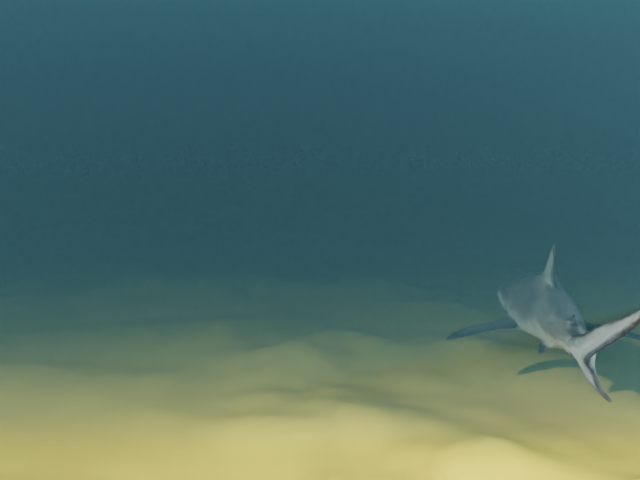Carribean Shark.001: (445, 243, 640, 402)
